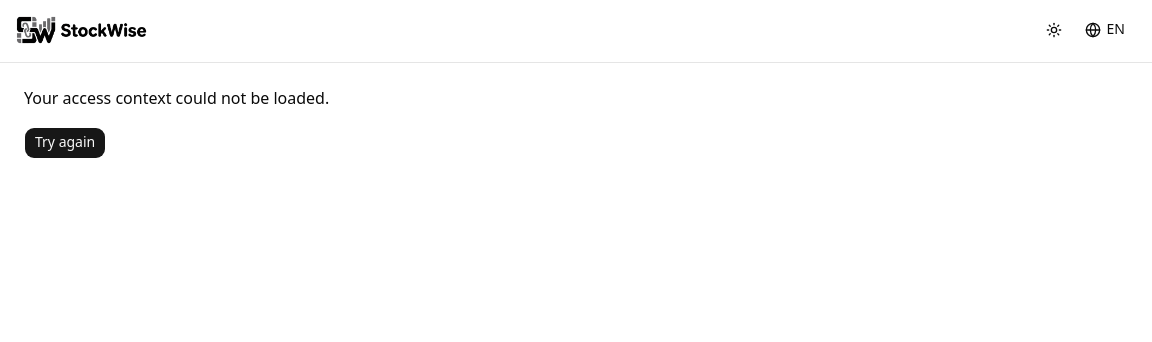
Test: web application shell › retries a guest network failure without form flash until explicit 401
Expected: the message "Your access context could not be loaded." is shown, [24,87,329,111]
Expected: the field labelled "Password" is not shown
Click the button "Try again".
click(65, 143)  # box [24,127,106,159]
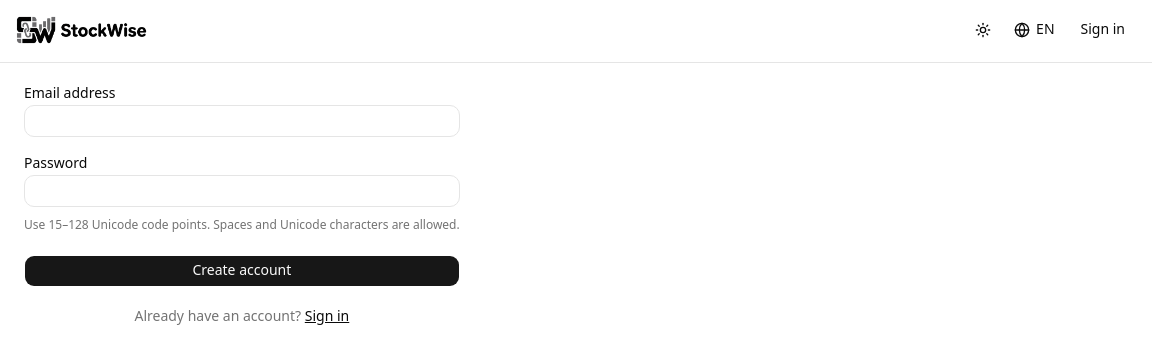
Expected: the password field labelled "Password" is shown, [24,175,460,207]
